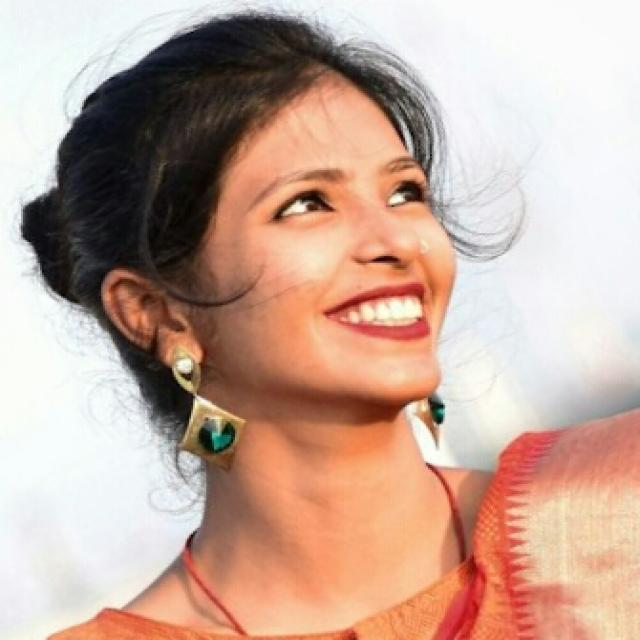front: (212, 117, 491, 393)
